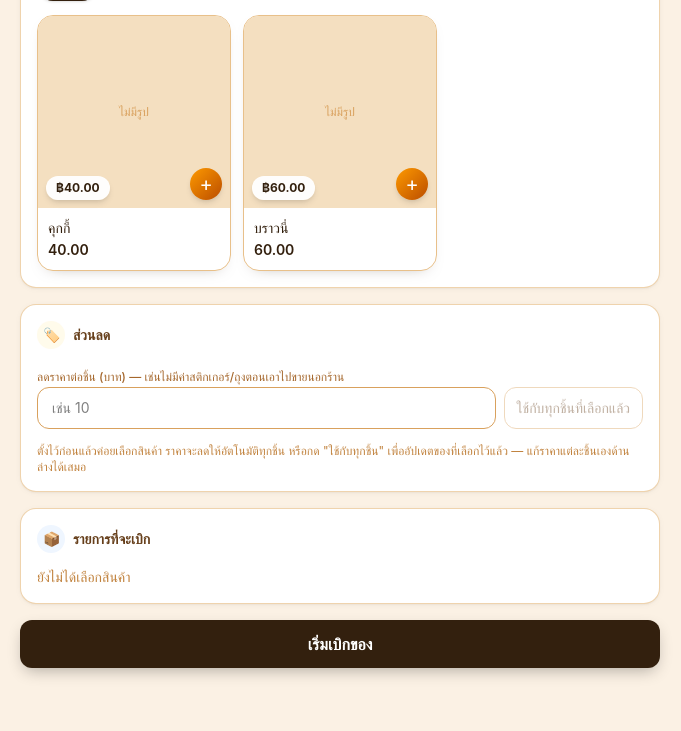
Test: NewWithdrawalPage › ไม่ได้เลือกสินค้าเลย กดเริ่มเบิกของ ขึ้น error ไม่ยิง createWithdrawal
(page scrolled)
What coordinates should you click on to do the following:
click the button "เริ่มเบิกของ"
I would click on:
 (340, 644)
Its box is [20,620,660,668].
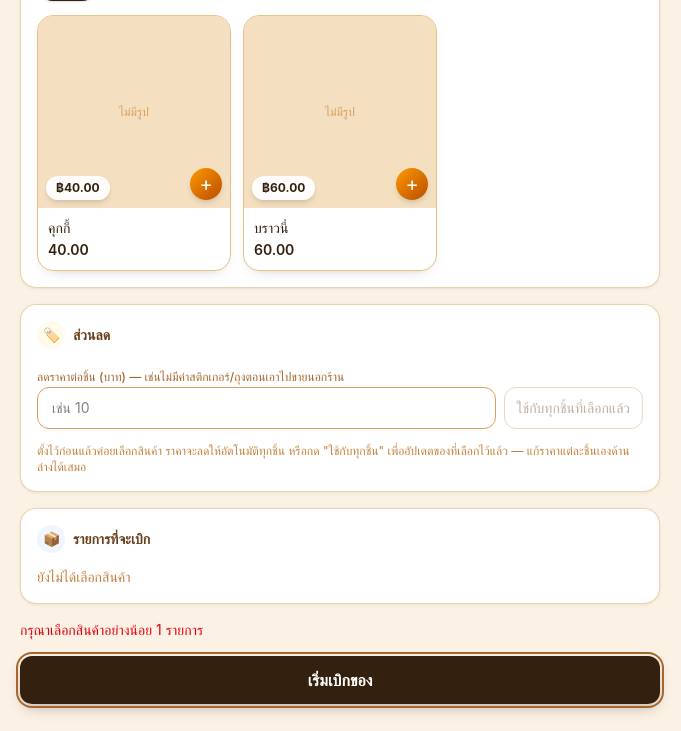
Expected: the text "กรุณาเลือกสินค้าอย่างน้อย 1 รายการ" is shown, [20,621,203,638]
